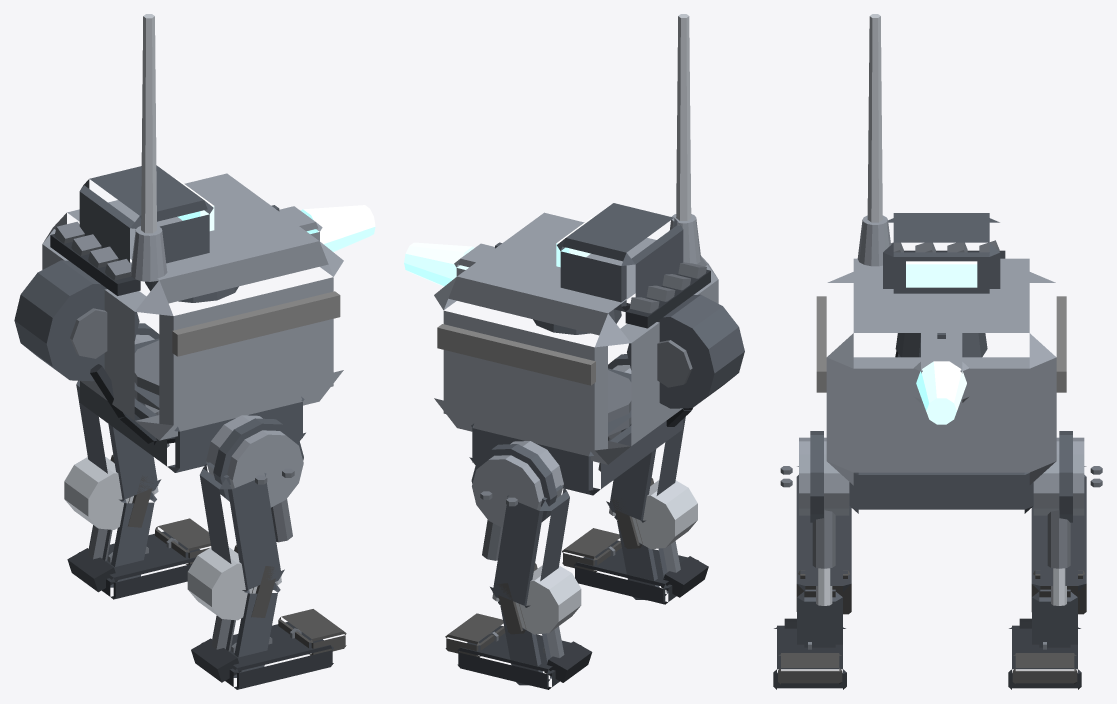
The model's file is adv_conbot.glb.
3 renders of one model, left to right at view 1: azimuth 30°, elevation 25°; view 2: azimuth 150°, elevation 25°; view 3: azimuth 270°, elevation 25°, orthographic. The views are drawn at different scales.
Visible parts, largest first — view 1: body, turret; view 2: body, turret; view 3: body, turret.
Part boxes in pixels (x1,y1,x2,y2): body: (14, 14, 346, 689); turret: (145, 205, 375, 302); body: (434, 14, 744, 689); turret: (404, 242, 621, 334); body: (773, 14, 1102, 689); turret: (895, 333, 987, 424).
Bounding box in the file's own units: 15.95 × 29.45 × 14.19.
